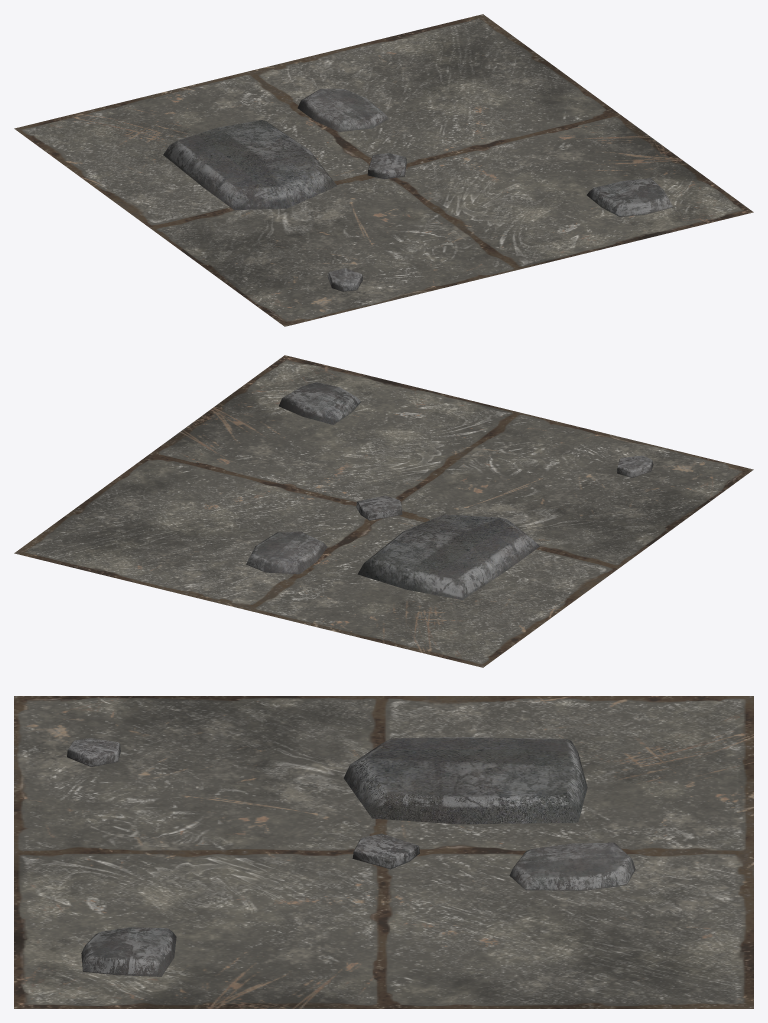
The model's file is Floor1.fbx.
3 renders of one model, top to bottom at view 1: azimuth 30°, elevation 25°; view 2: azimuth 150°, elevation 25°; view 3: azimuth 270°, elevation 25°, orthographic. The views are drawn at different scales.
Visible parts, largest first — view 1: Floor1; view 2: Floor1; view 3: Floor1.
Boxes of the visible parts, left/top/right/bottom form: Floor1: left=14, top=14, right=753, bottom=326; Floor1: left=14, top=355, right=753, bottom=667; Floor1: left=14, top=696, right=753, bottom=1008.
Size of the model in its own units: 3 by 0.1132 by 3.
Materials: 1 (1 with a texture image).
